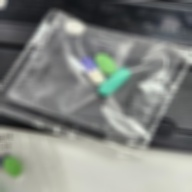러키펜정: (64, 20, 86, 37)
씨엠지세파클러캡슐: (80, 57, 109, 86)
에르도캡슐: (97, 68, 132, 97)
휴티렌정: (94, 54, 117, 76)
